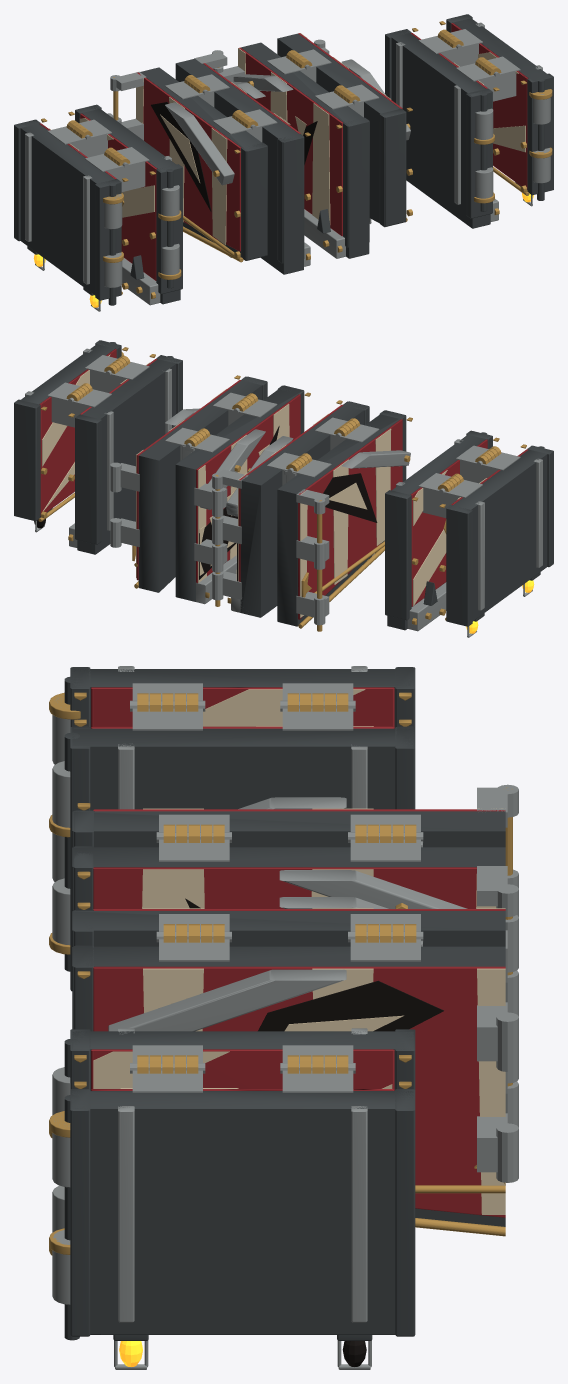
Rendered from Shield.glb.
3 views of the same model, one above another, from view 1: azimuth 30°, elevation 25°; view 2: azimuth 150°, elevation 25°; view 3: azimuth 270°, elevation 25° (orthographic). The views are drawn at different scales.
Visible parts, largest first — view 1: Wing_R_Bottom_Wing_R_Circus_BlackenedSteel, Wing_L_Top_Wing_L_Circus_BlackenedSteel, Center_L_Bottom_Center_L_Center_Circus_BlackenedSteel, Center_R_Top_Center_R_Center_Circus_BlackenedSteel, Center_R_Bottom_Center_R_Center_Circus_BlackenedSteel, Center_L_Top_Center_L_Center_Circus_BlackenedSteel, Center_L_Top_Center_L_Center_Circus_Crimson, Wing_L_Bottom_Wing_L_Circus_BlackenedSteel, Wing_L_Top_Circus_WornIron, Wing_R_Bottom_Circus_WornIron, Wing_L_Bottom_Circus_WornIron, Center_R_Bottom_Center_R_Center_Circus_Crimson (+20 smaller); view 2: Wing_L_Top_Wing_L_Circus_BlackenedSteel, Wing_R_Bottom_Wing_R_Circus_BlackenedSteel, Center_L_Bottom_Center_L_Center_Circus_BlackenedSteel, Center_R_Top_Center_R_Center_Circus_BlackenedSteel, Wing_L_Bottom_Wing_L_Circus_BlackenedSteel, Center_L_Top_Center_L_Center_Circus_BlackenedSteel, Center_R_Bottom_Center_R_Center_Circus_BlackenedSteel, Wing_R_Top_Wing_R_Circus_BlackenedSteel, Center_L_Top_Center_L_Center_Circus_Crimson, Center_L_Top_Circus_WornIron, Center_R_Bottom_Circus_WornIron, Center_L_Bottom_Circus_WornIron (+21 smaller); view 3: Wing_R_Top_Wing_R_Circus_BlackenedSteel, Wing_L_Bottom_Wing_L_Circus_BlackenedSteel, Center_R_Top_Center_R_Center_Circus_Crimson, Center_R_Top_Circus_WornIron, Wing_R_Top_Circus_WornIron, Center_L_Top_Center_L_Center_Circus_BlackenedSteel, Center_R_Bottom_Center_R_Center_Circus_BlackenedSteel, Center_L_Bottom_Circus_WornIron, Center_R_Top_Center_R_Center_Circus_BlackenedSteel, Center_L_Bottom_Center_L_Center_Circus_Crimson, Wing_L_Bottom_Circus_WornIron, Center_L_Bottom_Center_L_Center_Circus_BlackenedSteel (+22 smaller).
Boxes of the visible parts, box(x1,y1,x2,y2) form: Wing_R_Bottom_Wing_R_Circus_BlackenedSteel: box(385, 29, 492, 228); Wing_L_Top_Wing_L_Circus_BlackenedSteel: box(14, 119, 121, 305); Center_L_Bottom_Center_L_Center_Circus_BlackenedSteel: box(175, 58, 304, 274); Center_R_Top_Center_R_Center_Circus_BlackenedSteel: box(277, 33, 406, 227); Center_R_Bottom_Center_R_Center_Circus_BlackenedSteel: box(241, 42, 369, 258); Center_L_Top_Center_L_Center_Circus_BlackenedSteel: box(140, 67, 267, 260); Center_L_Top_Center_L_Center_Circus_Crimson: box(137, 72, 241, 251); Wing_L_Bottom_Wing_L_Circus_BlackenedSteel: box(75, 104, 182, 304); Wing_L_Top_Circus_WornIron: box(25, 126, 128, 311); Wing_R_Bottom_Circus_WornIron: box(396, 36, 499, 221); Wing_L_Bottom_Circus_WornIron: box(79, 113, 179, 305); Center_R_Bottom_Center_R_Center_Circus_Crimson: box(239, 47, 342, 236); Wing_L_Top_Wing_L_Circus_BlackenedSteel: box(446, 445, 553, 626); Wing_R_Bottom_Wing_R_Circus_BlackenedSteel: box(75, 355, 182, 554); Center_L_Bottom_Center_L_Center_Circus_BlackenedSteel: box(240, 401, 369, 617); Center_R_Top_Center_R_Center_Circus_BlackenedSteel: box(138, 376, 267, 592); Wing_L_Bottom_Wing_L_Circus_BlackenedSteel: box(385, 430, 492, 630); Center_L_Top_Center_L_Center_Circus_BlackenedSteel: box(277, 410, 406, 626); Center_R_Bottom_Center_R_Center_Circus_BlackenedSteel: box(175, 385, 304, 601); Wing_R_Top_Wing_R_Circus_BlackenedSteel: box(14, 340, 121, 521); Center_L_Top_Center_L_Center_Circus_Crimson: box(298, 419, 402, 619); Center_L_Top_Circus_WornIron: box(286, 424, 410, 625); Center_R_Bottom_Circus_WornIron: box(184, 399, 277, 604); Center_L_Bottom_Circus_WornIron: box(212, 417, 347, 612); Wing_R_Top_Wing_R_Circus_BlackenedSteel: box(64, 1089, 415, 1340); Wing_L_Bottom_Wing_L_Circus_BlackenedSteel: box(64, 726, 415, 991); Center_R_Top_Center_R_Center_Circus_Crimson: box(93, 966, 505, 1217); Center_R_Top_Circus_WornIron: box(108, 940, 518, 1182); Wing_R_Top_Circus_WornIron: box(52, 1070, 371, 1369); Center_L_Top_Center_L_Center_Circus_BlackenedSteel: box(72, 810, 505, 847); Center_R_Bottom_Center_R_Center_Circus_BlackenedSteel: box(72, 910, 505, 946); Center_L_Bottom_Circus_WornIron: box(156, 832, 518, 1127); Center_R_Top_Center_R_Center_Circus_BlackenedSteel: box(72, 945, 505, 1226); Center_L_Bottom_Center_L_Center_Circus_Crimson: box(93, 867, 476, 908); Wing_L_Bottom_Circus_WornIron: box(52, 700, 367, 945); Center_L_Bottom_Center_L_Center_Circus_BlackenedSteel: box(72, 846, 505, 910).
Size of the model in its own units: 4.48 by 1.33 by 2.
